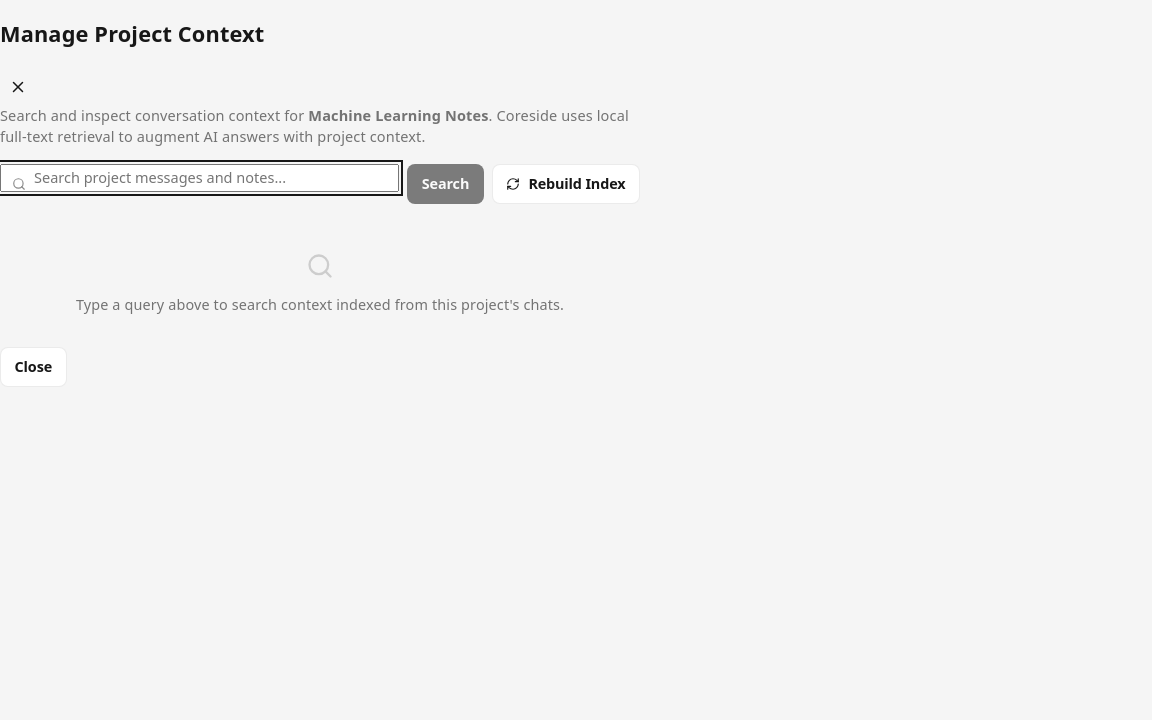
Test: ProjectContextDialog › displays error message on search failure
Type "test" into the search field with placeholder "Search project messages and notes..." at (200, 178), box [0, 164, 399, 192]
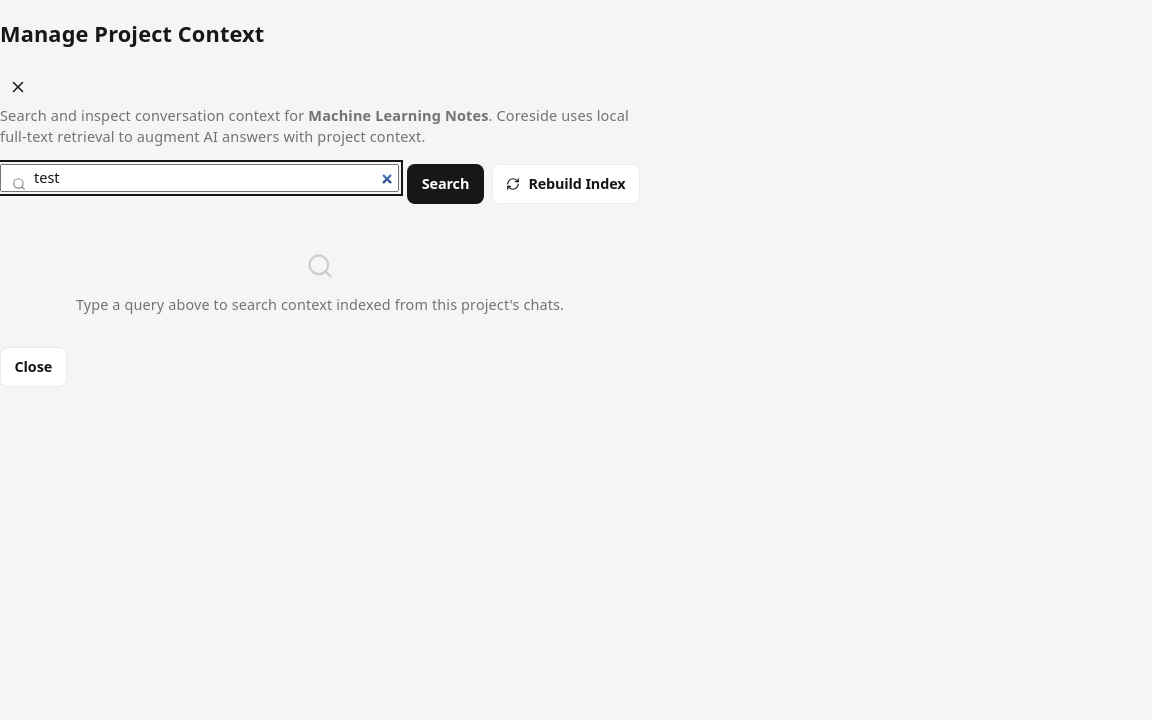
Click the button "Search" at (445, 184), box [407, 164, 484, 204]
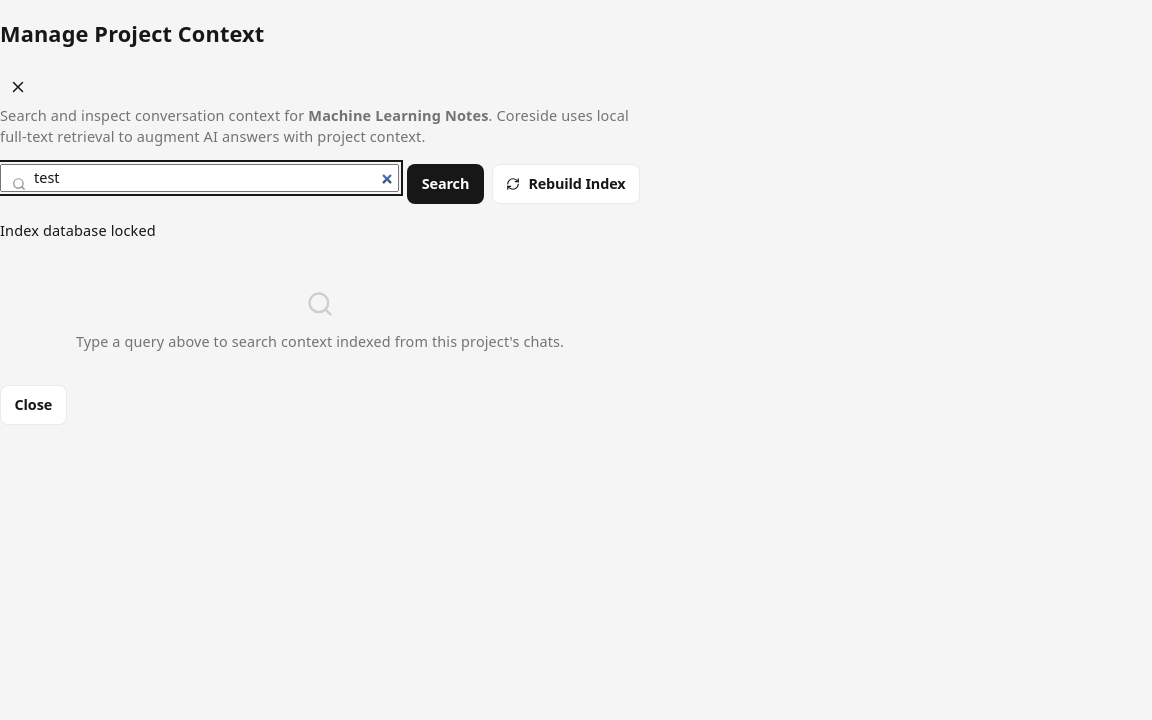
Check: the text "Index database locked" is shown, box [0, 220, 156, 240]
